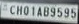character: (56, 6, 62, 18), (36, 6, 42, 17), (49, 6, 55, 17), (63, 7, 69, 18), (70, 7, 76, 18), (9, 4, 15, 14), (16, 5, 22, 15), (23, 5, 28, 15), (31, 6, 35, 15)
